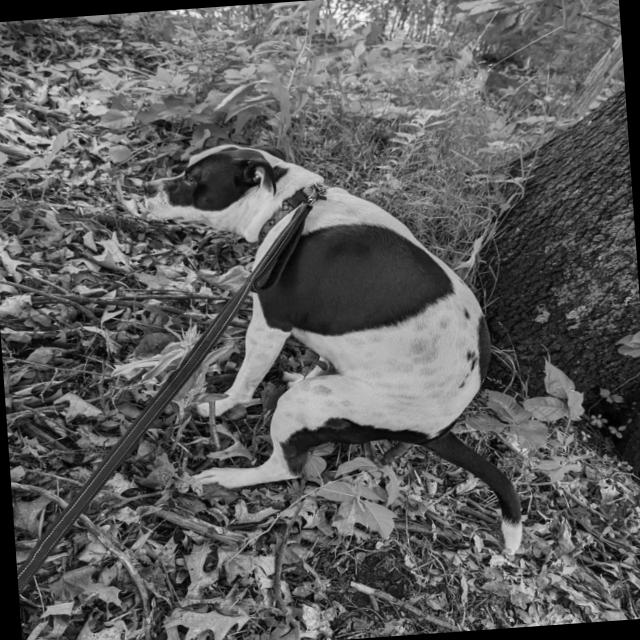squatting: (134, 119, 548, 585)
